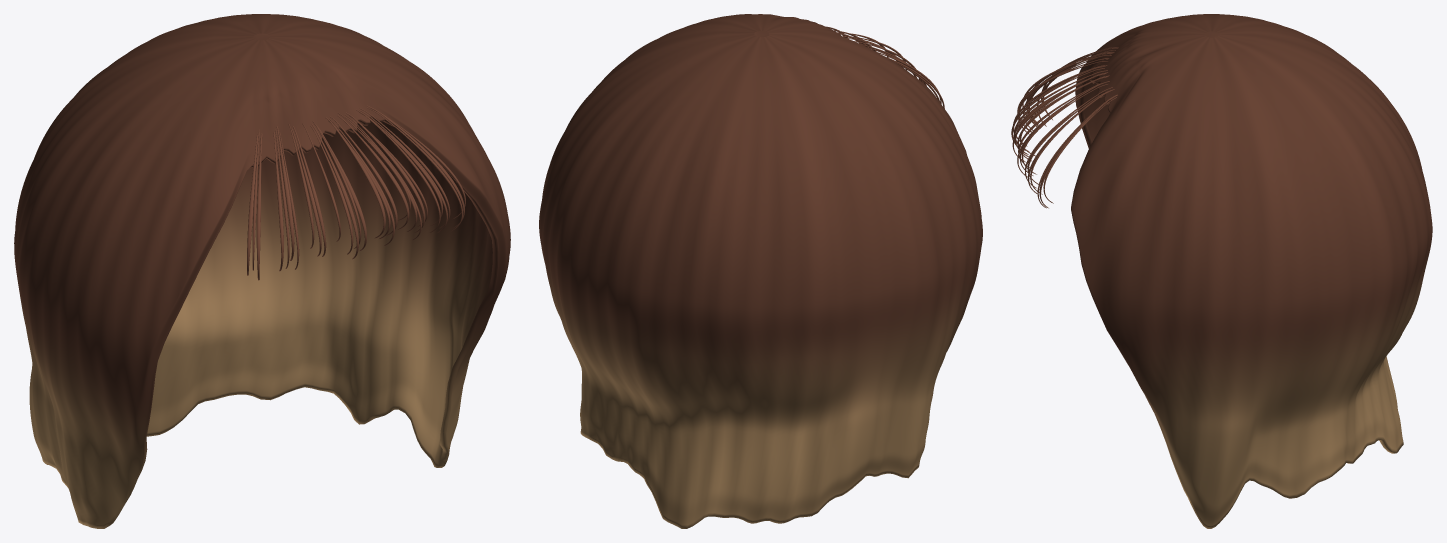
Rendered from side-sweep-none-ombre.glb.
The picture shows the model from 3 angles, left to right: view 1: azimuth 30°, elevation 25°; view 2: azimuth 150°, elevation 25°; view 3: azimuth 270°, elevation 25°; orthographic projection. The views are drawn at different scales.
Visible parts, largest first — view 1: Hair / layered lob, Fringe / fine strands; view 2: Hair / layered lob, Fringe / fine strands; view 3: Hair / layered lob, Fringe / fine strands.
Boxes of the visible parts, x1=… form: Hair / layered lob: x1=14, y1=14, x2=510, y2=528; Fringe / fine strands: x1=247, y1=105, x2=465, y2=280; Hair / layered lob: x1=539, y1=14, x2=982, y2=528; Fringe / fine strands: x1=825, y1=26, x2=944, y2=108; Hair / layered lob: x1=1071, y1=14, x2=1432, y2=528; Fringe / fine strands: x1=1011, y1=47, x2=1118, y2=208.
Size of the model in its own units: 0.8388 by 0.8786 by 0.8009.
